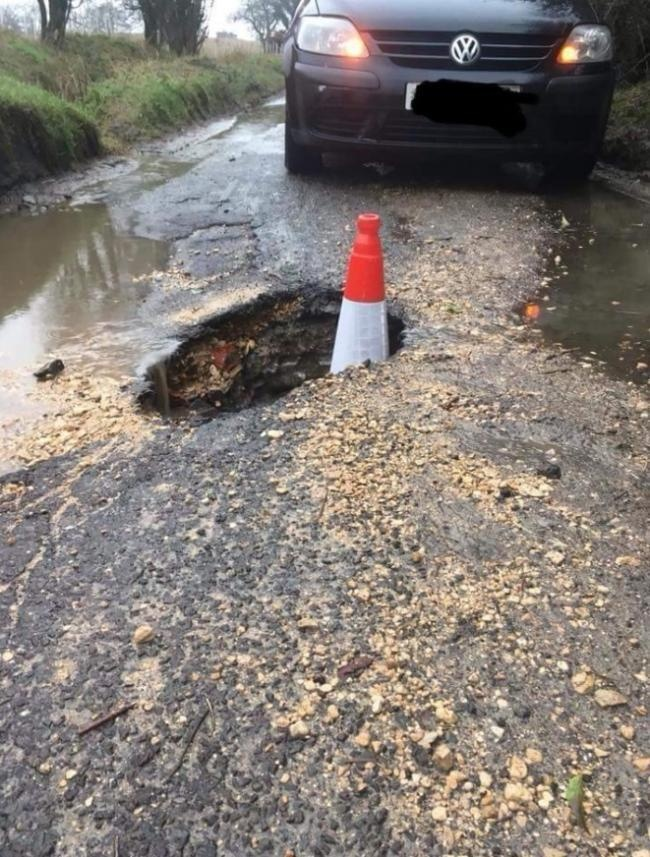pothole: (100, 210, 564, 533)
